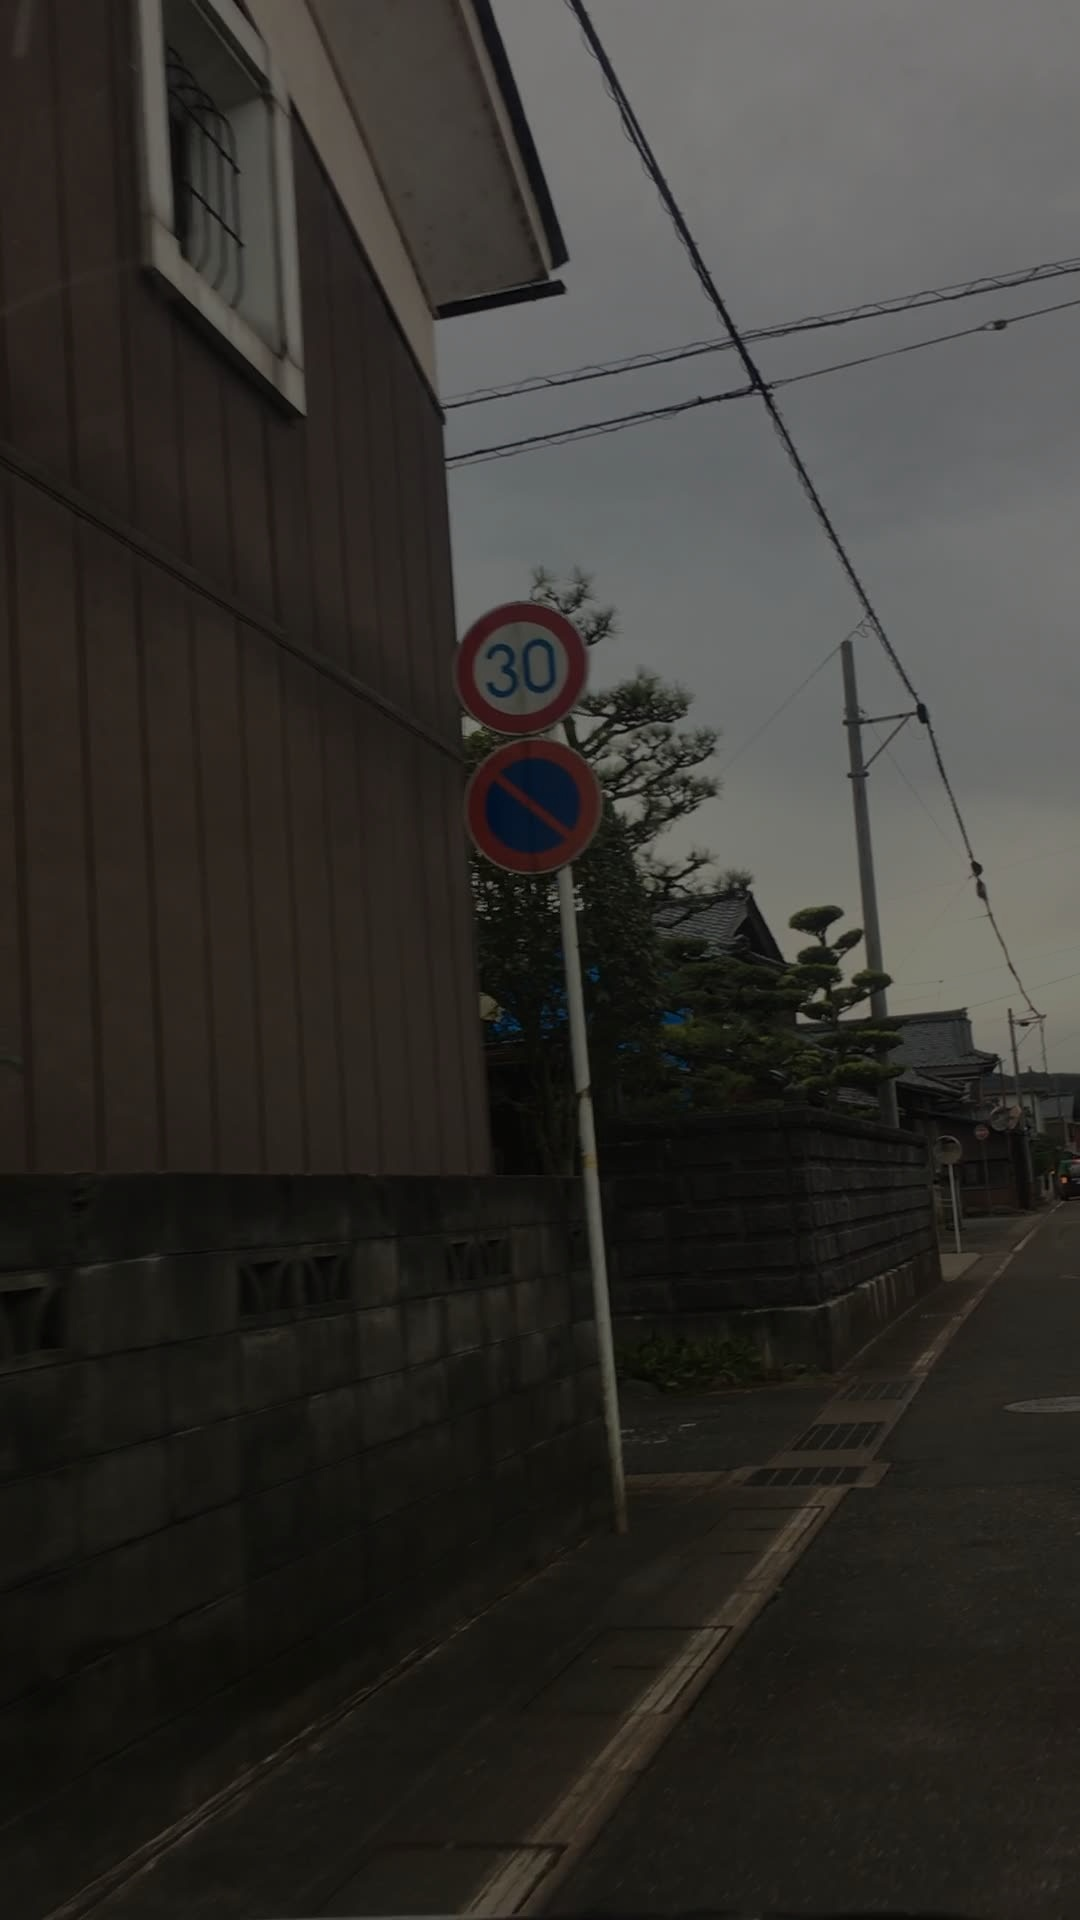Prohibition_sign: (442, 723, 616, 899)
Speed_sign: (442, 593, 603, 738)
